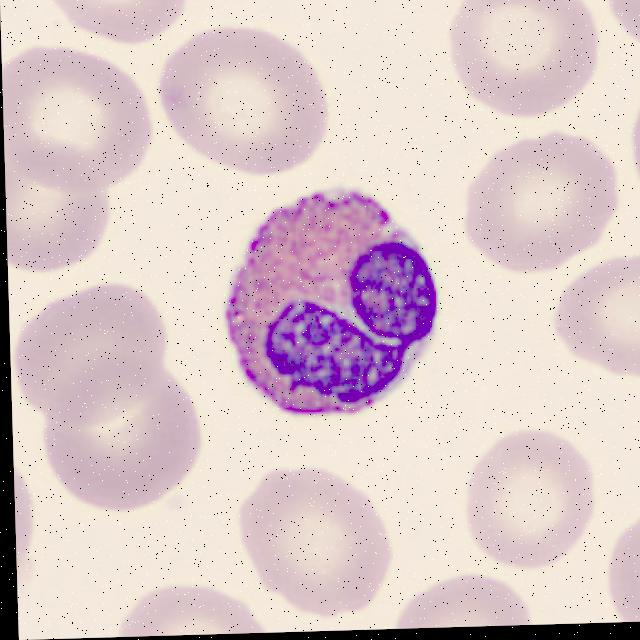eosinophil: (211, 180, 445, 423)
rbc: (153, 22, 340, 185), (36, 352, 213, 511), (234, 460, 401, 626), (1, 37, 159, 199), (8, 277, 173, 430), (455, 129, 617, 282), (455, 414, 603, 574), (437, 0, 610, 123), (4, 133, 116, 281), (552, 256, 640, 395), (377, 571, 537, 629), (40, 0, 191, 50), (600, 506, 640, 623), (14, 462, 43, 575), (621, 79, 640, 211), (602, 0, 640, 60)
